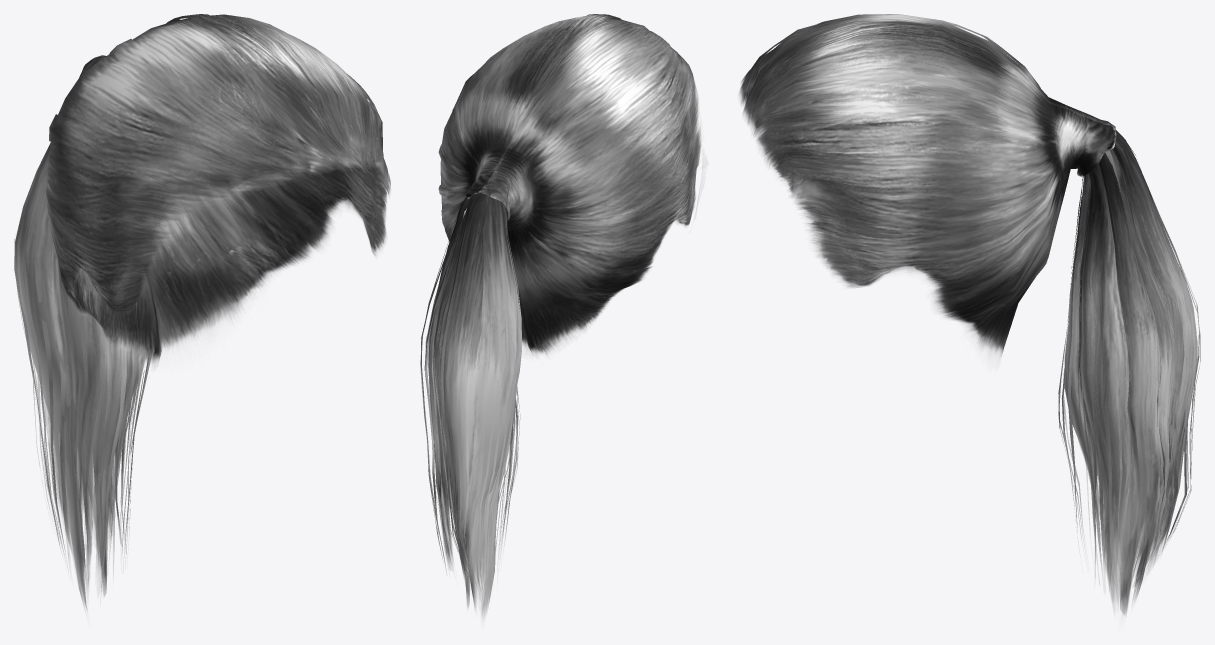
File: hair_ponytail01.gltf
The picture shows the model from 3 angles, left to right: view 1: azimuth 30°, elevation 25°; view 2: azimuth 150°, elevation 25°; view 3: azimuth 270°, elevation 25°; orthographic projection. The views are drawn at different scales.
Visible parts, largest first — view 1: hair_ponytail01; view 2: hair_ponytail01; view 3: hair_ponytail01.
Boxes of the visible parts, bbox=[...] form: hair_ponytail01: bbox=[14, 14, 390, 612]; hair_ponytail01: bbox=[420, 14, 701, 619]; hair_ponytail01: bbox=[739, 14, 1200, 616].
Bounding box in the file's own units: 0.1504 × 0.3568 × 0.2454.
Materials: 1 (1 with a texture image).
